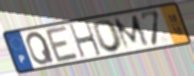7: (140, 8, 161, 47)
E: (43, 24, 81, 65)
H: (68, 20, 104, 60)
M: (112, 13, 152, 52)
O: (92, 19, 126, 55)
Q: (25, 30, 56, 67)
